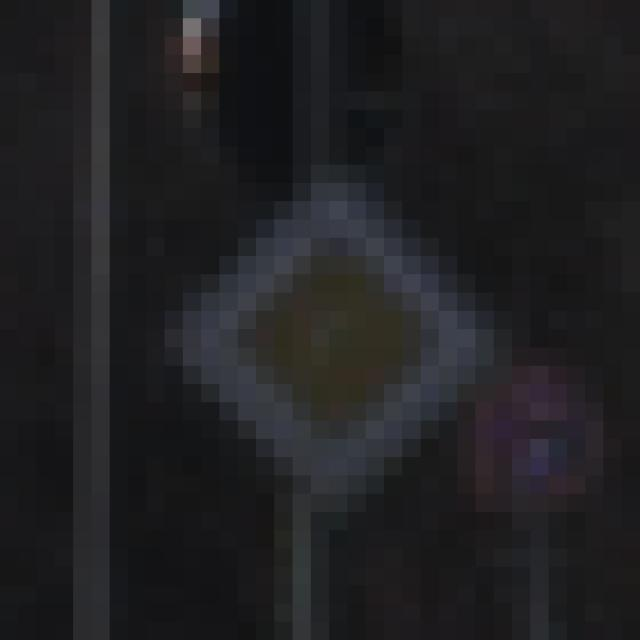Main Road: (111, 111, 550, 550)
